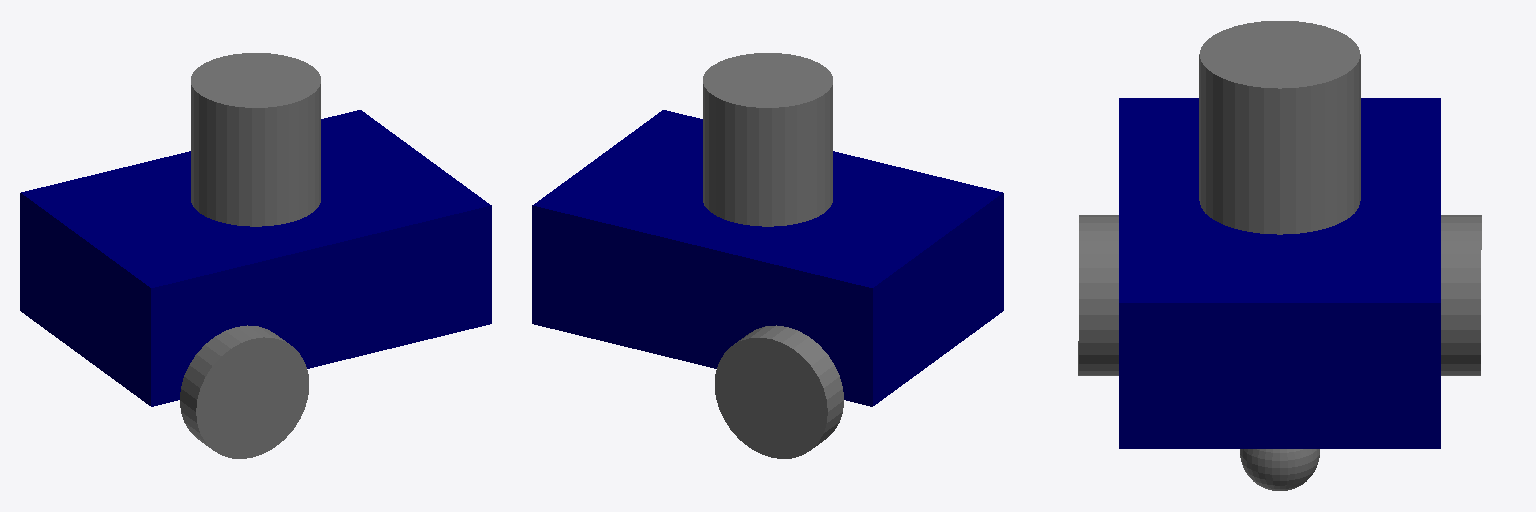
robot.urdf — my_robot:
<?xml version="1.0"?>
<robot name="my_robot">
	<!-- Reference -> http://wiki.ros.org/urdf/XML -->
	<!--  -->
	<!-- Everything has to be between this `robot` tag (kind a like <html>) -->
	<!--  -->
	<!-- for giving color to a link -->
	<material name="green">
		<color rgba="0 0.5 0 1" />
	</material>
	<material name="grey">
		<color rgba="0.5 0.5 0.5 1" />
	</material>
	<material name="blue">
		<color rgba="0 0 0.5 1" />
	</material>
	<!-- empty link -->
	<link name="base_footprint" />
	<!-- base link is like the chasis of the robot -->
	<link name="base_link">
		<visual>
			<geometry>
				<!-- Everything in meters (60cm long, 40cm wide, 20cm high) -->
				<box size="0.6 0.4 0.2" />
			</geometry>
			<!-- origin= center of gravity. relative to link origin -->
			<!-- rpy= roll-pitch-yaw (rotational x-y-z) -->
			<origin xyz="0 0 0.1" rpy="0 0 0" />
			<!-- use the material defined above -->
			<material name="blue" />
		</visual>
	</link>
	<!-- When you have at least 2 links, TF is generated -->
	<link name="second_link">
		<visual>
			<geometry>
				<cylinder radius="0.1" length="0.2" />
			</geometry>
			<origin xyz="0 0 0.1" rpy="0 0 0" />
			<material name="grey" />
		</visual>
	</link>
	<link name="right_wheel_link">
		<visual>
			<geometry>
				<cylinder radius="0.1" length="0.05" />
			</geometry>
			<origin xyz="0 0 0" rpy="1.57 0 0" />
			<material name="grey" />
		</visual>
	</link>
	<link name="left_wheel_link">
		<visual>
			<geometry>
				<cylinder radius="0.1" length="0.05" />
			</geometry>
			<origin xyz="0 0 0" rpy="1.57 0 0" />
			<material name="grey" />
		</visual>
	</link>
	<link name="caster_wheel_link">
		<visual>
			<geometry>
				<sphere radius="0.05" />
			</geometry>
			<origin xyz="0 0 0" rpy="0 0 0" />
			<material name="grey" />
		</visual>
	</link>
	<!-- We have to provide joints -->
	<joint name="base_joint" type="fixed">
		<parent link="base_footprint" />
		<child link="base_link" />
		<origin xyz="0 0 0.1" rpy="0 0 0" />
	</joint>
	<!-- name= {parentLink}_{childLink}_joint (just a convention to keep things consistent, not a necessity) -->
	<joint name="base_second_joint" type="revolute">
		<!-- [type="continuous"]= revolute but with no limits -->
		<!-- 4 most common joint types= fixed, revolute, continuous, prismatic -->
		<parent link="base_link" />
		<child link="second_link" />
		<!-- ! tip for beginners= put 0 to everything first, then modify by observing the positions at RViz -->
		<origin xyz="0 0 0.2" rpy="0 0 0" />
		<!-- 0= no rotation, 1= +rotation, -1= -rotation -->
		<axis xyz="0 0 1" />
		<!-- lower, upper limits= required for [type="revolute"] (in radians) -->
		<limit lower="-1.57" upper="1.57" velocity="100" effort="100" />
	</joint>
	<!-- base-right_wheel joint -->
	<joint name="base_right_wheel_joint" type="continuous">
		<parent link="base_link" />
		<child link="right_wheel_link" />
		<origin xyz="-0.15 -0.225 0" rpy="0 0 0" />
		<axis xyz="0 1 0" />
	</joint>
	<!-- base-left_wheel joint -->
	<joint name="base_left_wheel_joint" type="continuous">
		<parent link="base_link" />
		<child link="left_wheel_link" />
		<origin xyz="-0.15 0.225 0" rpy="0 0 0" />
		<axis xyz="0 1 0" />
	</joint>
	<joint name="base_caster_wheel_joint" type="fixed">
		<parent link="base_link" />
		<child link="caster_wheel_link" />
		<origin xyz="0.2 0 -0.05" rpy="0 0 0" />
	</joint>
</robot>
<!--
Tip for getting the origins right= First fix the origin of the joint,
then fix the visual's origin
-->

--- What the picture shows (computed from the rendered views, not written in the file) ---
Views: 3 orthographic renders of the robot side by side, from view 1: azimuth 30°, elevation 25°; view 2: azimuth 150°, elevation 25°; view 3: azimuth 270°, elevation 25°.
Model my_robot with 6 links and 5 joints (1 revolute, 2 continuous, 2 fixed), rooted at base_footprint, posed all joints at 0.
Links seen in each view (by area): view 1: base_link, second_link, right_wheel_link; view 2: base_link, second_link, left_wheel_link; view 3: base_link, second_link, right_wheel_link, left_wheel_link, caster_wheel_link.
Link boxes in pixels (bbox=[...]): base_link: bbox=[20, 110, 491, 406]; second_link: bbox=[191, 53, 320, 226]; right_wheel_link: bbox=[180, 325, 308, 458]; base_link: bbox=[532, 110, 1003, 406]; second_link: bbox=[703, 53, 832, 226]; left_wheel_link: bbox=[715, 325, 843, 458]; base_link: bbox=[1119, 98, 1440, 448]; second_link: bbox=[1199, 21, 1360, 234]; right_wheel_link: bbox=[1078, 215, 1118, 375]; left_wheel_link: bbox=[1441, 215, 1481, 375]; caster_wheel_link: bbox=[1240, 449, 1319, 490].
Size in the robot's own frame: 0.6 by 0.5002 by 0.5 metres.
Geometry: primitives only (box / cylinder / sphere), no mesh files.